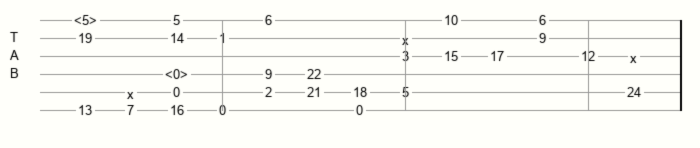0: (173, 85, 184, 99), (219, 103, 230, 117), (356, 103, 367, 117)
1: (219, 31, 230, 45)
10: (444, 13, 462, 27)
12: (581, 49, 599, 63)
13: (78, 103, 96, 117)
14: (170, 31, 188, 45)
15: (444, 49, 462, 63)
16: (170, 103, 188, 117)
17: (490, 49, 508, 63)
18: (353, 85, 371, 99)
19: (78, 31, 96, 45)
2: (265, 85, 276, 99)
21: (307, 85, 325, 99)
22: (307, 67, 325, 81)
24: (627, 85, 645, 99)
3: (402, 49, 413, 63)
5: (173, 13, 184, 27), (402, 85, 413, 99)
6: (265, 13, 276, 27), (539, 13, 550, 27)
7: (127, 103, 138, 117)
9: (265, 67, 276, 81), (539, 31, 550, 45)
harmonic: (74, 13, 101, 27), (165, 67, 192, 81)
x: (127, 87, 138, 98), (402, 33, 413, 44), (630, 51, 641, 62)
